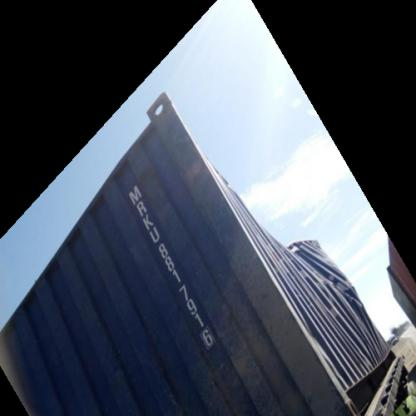Damage: (278, 233, 368, 329)
